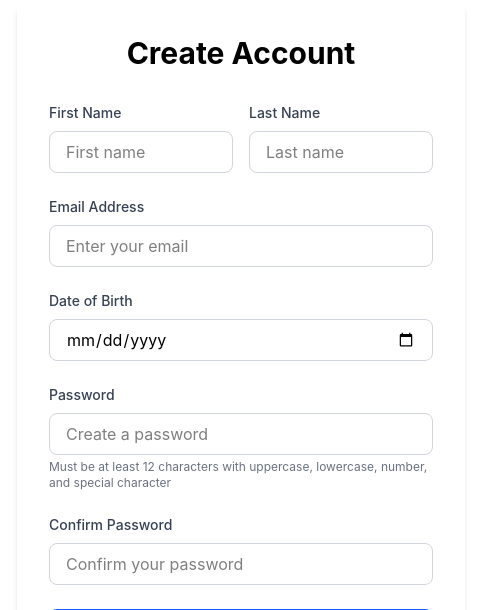
Scenario: RegisterPage › should show validation error for invalid email
Step 1. Type "invalid-email" into the field labelled "Email Address" → (241, 246), box [49, 225, 433, 267]
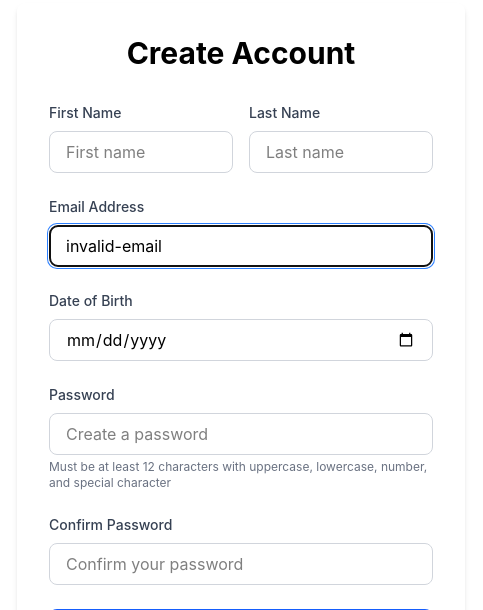
Step 2. Press Tab
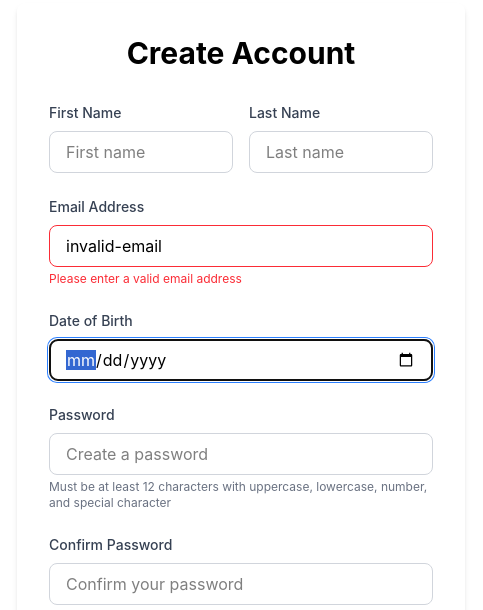
Expected: the text "Please enter a valid email address" is shown, [49, 271, 242, 286]
